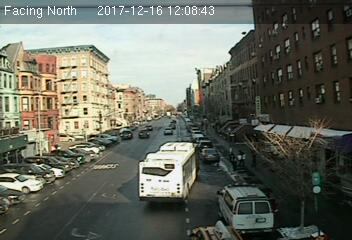bus: (137, 141, 201, 204)
car: (200, 147, 219, 162)
pedestrian: (236, 149, 247, 170)
police: (219, 181, 276, 232)
